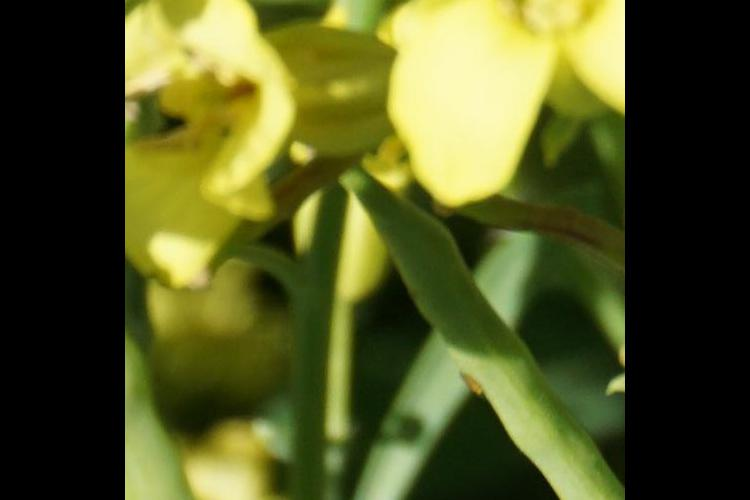pod: (327, 167, 542, 500)
yellow: (159, 1, 332, 225), (353, 1, 610, 137)
